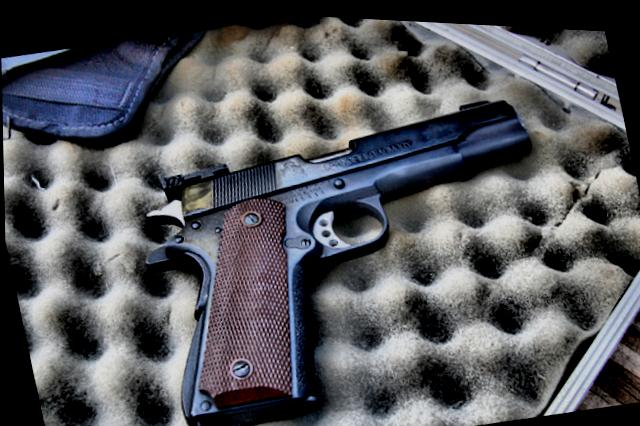pistol: (113, 67, 578, 426)
